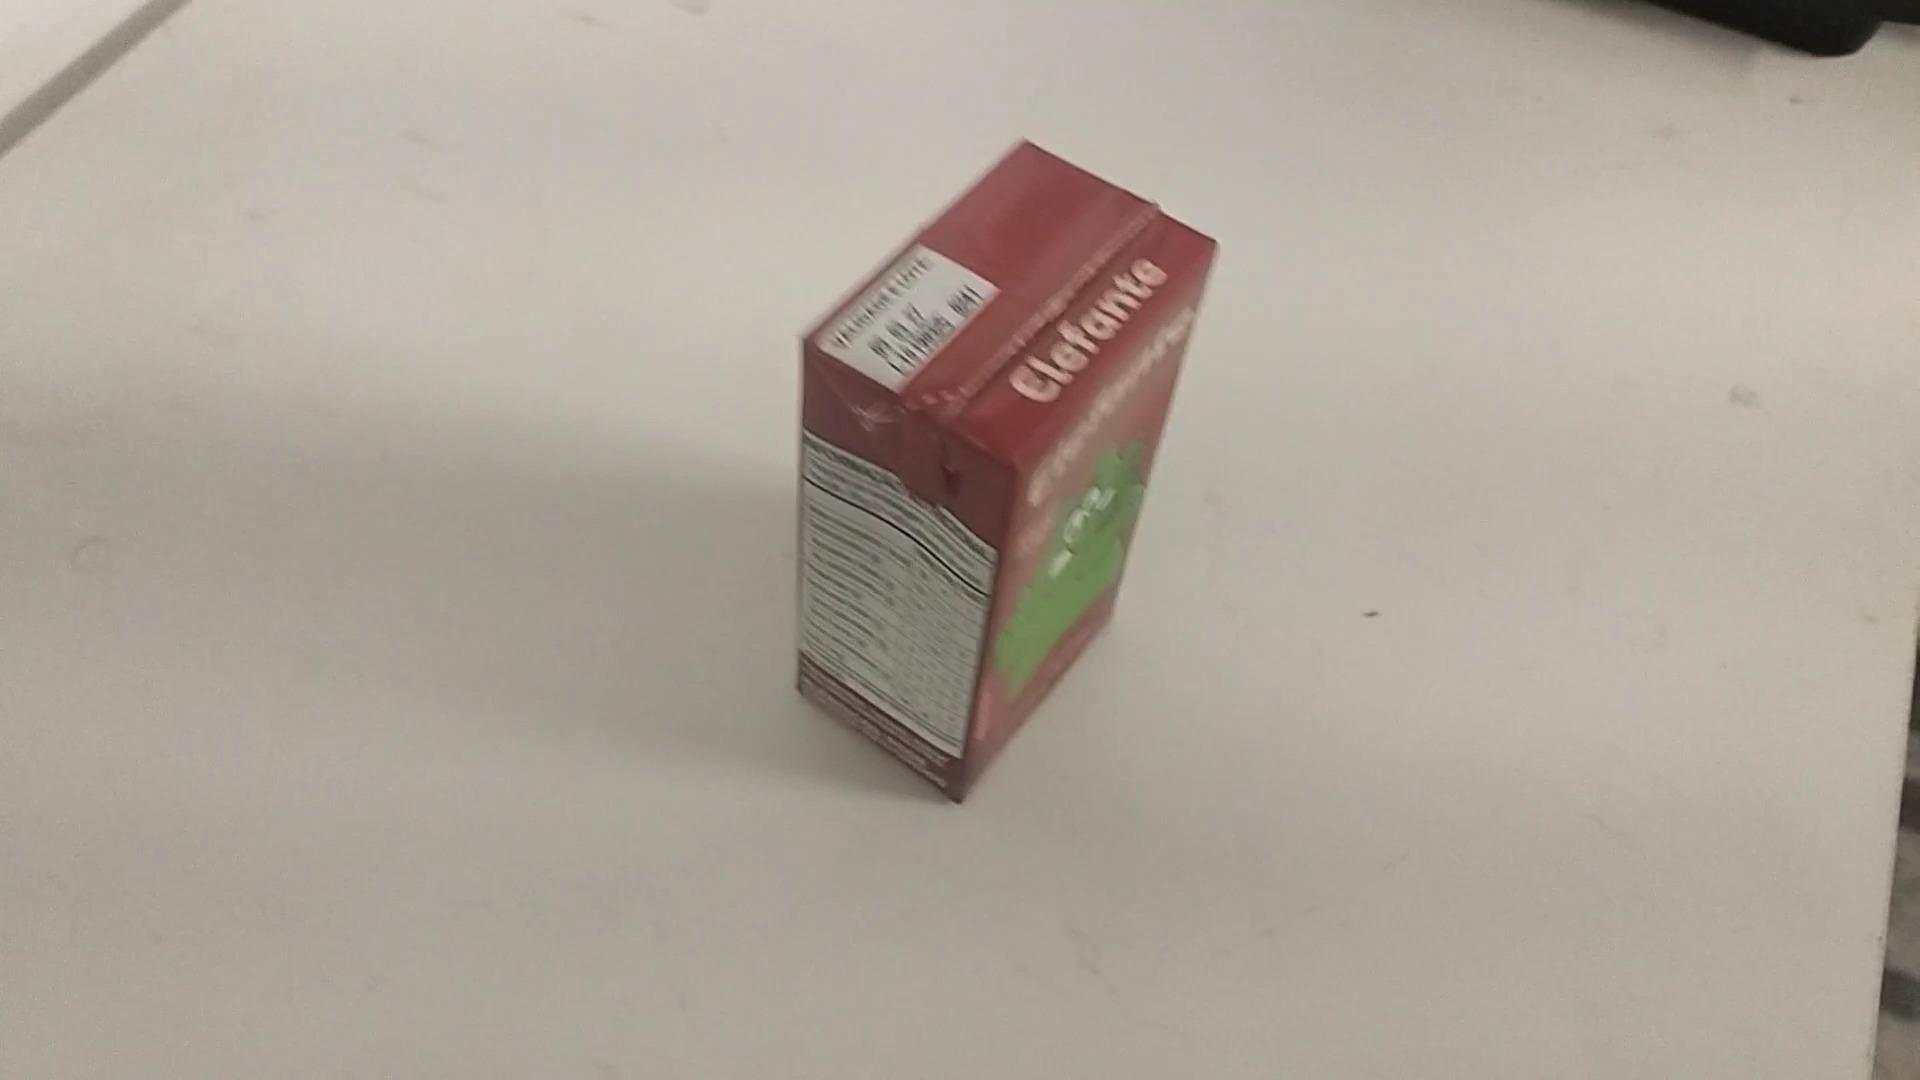tomate: (785, 125, 1232, 814)
